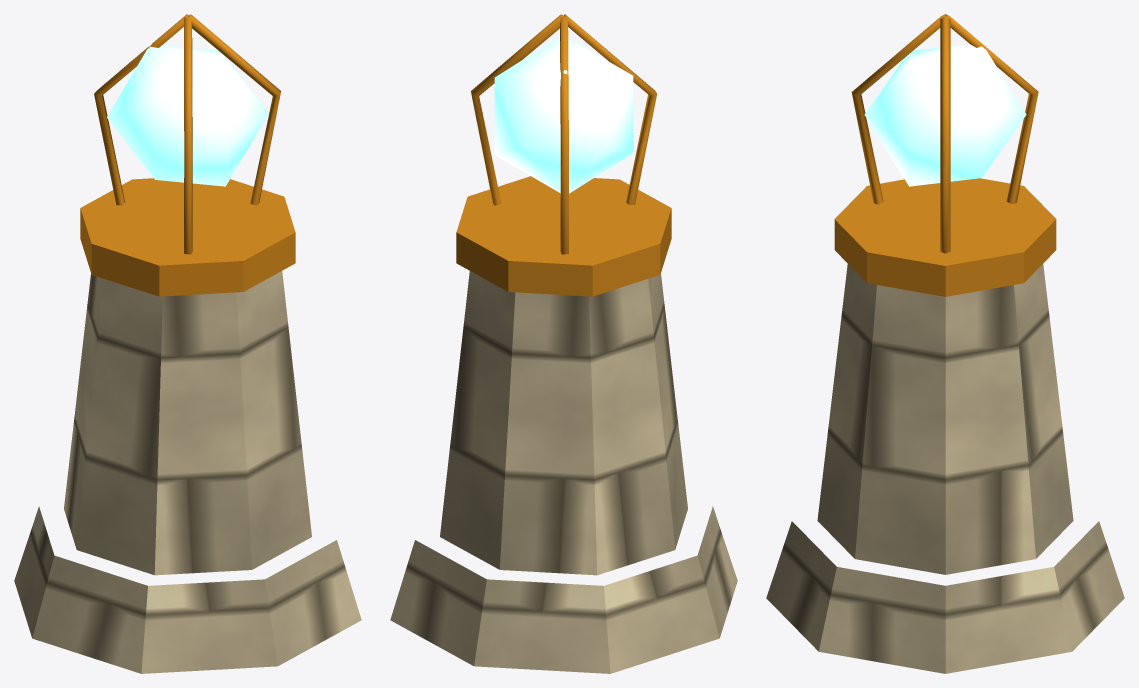
Rendered from waymark_sky.glb.
3 renders of one model, left to right at view 1: azimuth 30°, elevation 25°; view 2: azimuth 150°, elevation 25°; view 3: azimuth 270°, elevation 25°, orthographic.
Visible parts, largest first — view 1: waymark_sky; view 2: waymark_sky; view 3: waymark_sky.
Part boxes in pixels (left/top/right/bottom): waymark_sky: left=14, top=14, right=361, bottom=673; waymark_sky: left=390, top=14, right=737, bottom=673; waymark_sky: left=766, top=14, right=1124, bottom=673.
Bounding box in the file's own units: 0.84 × 1.51 × 0.84.
Materials: 3 (1 with a texture image).
